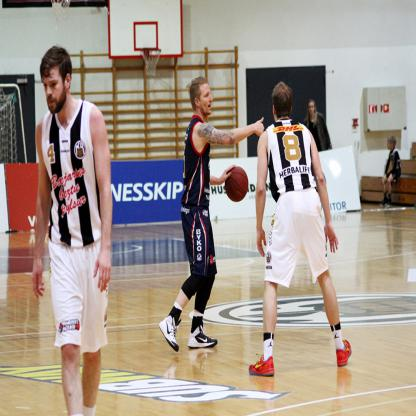Ball: (224, 166, 248, 204)
